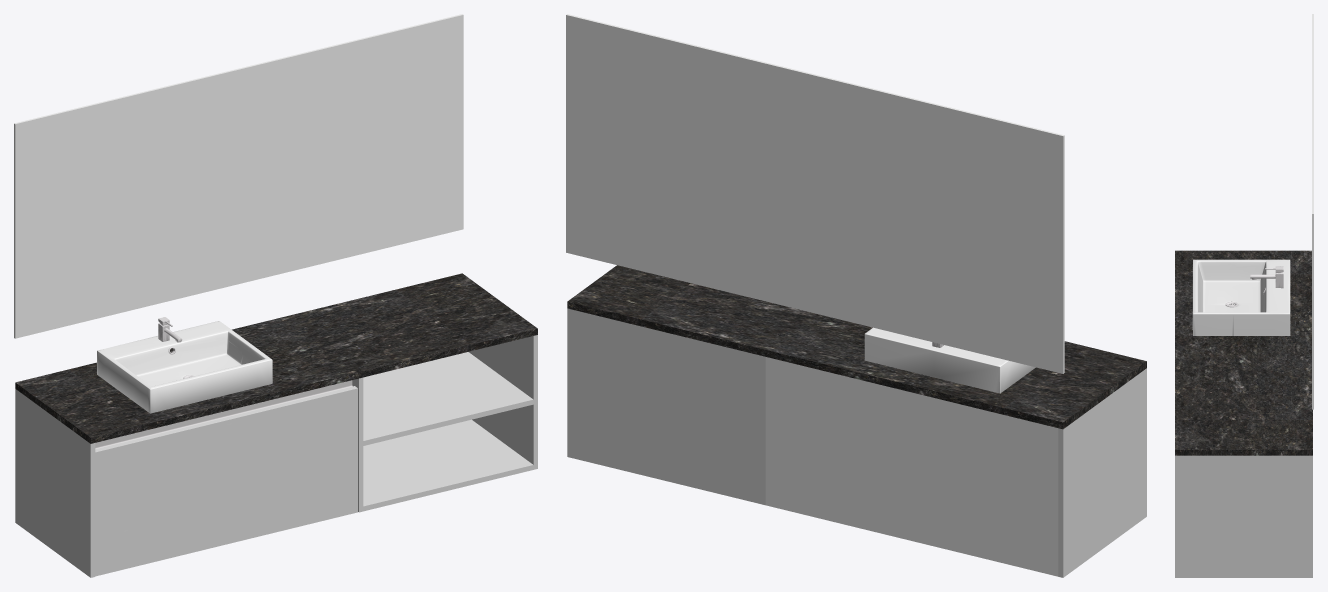
Rendered from KAIA-final.glb.
The picture shows the model from 3 angles, left to right: view 1: azimuth 30°, elevation 25°; view 2: azimuth 150°, elevation 25°; view 3: azimuth 270°, elevation 25°; orthographic projection. The views are drawn at different scales.
Parts seen in each view (by area): view 1: KAIA; view 2: KAIA; view 3: KAIA.
Part boxes in pixels (x1=…): KAIA: x1=14, y1=14, x2=537, y2=577; KAIA: x1=566, y1=14, x2=1146, y2=577; KAIA: x1=1175, y1=14, x2=1313, y2=577.
Size of the model in its own units: 1.5 by 1.28 by 0.4421.
Materials: 7 (2 with a texture image).
